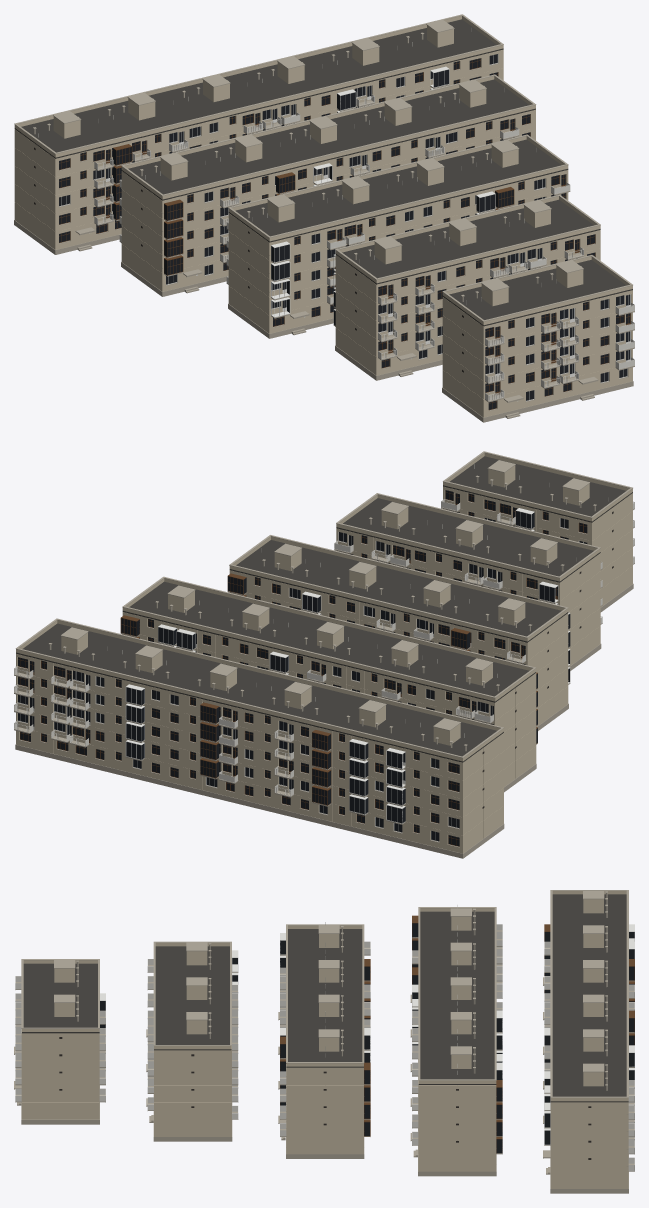
Rendered from panel_block.glb.
The picture shows the model from 3 angles, top to bottom: view 1: azimuth 30°, elevation 25°; view 2: azimuth 150°, elevation 25°; view 3: azimuth 270°, elevation 25°; orthographic projection. The views are drawn at different scales.
Visible parts, largest first — view 1: block_6, block_5, block_4, block_2, block_3; view 2: block_6, block_5, block_4, block_3, block_2; view 3: block_6, block_5, block_4, block_3, block_2.
Boxes of the visible parts, <box> form: block_6: <box>14,14,503,254</box>; block_5: <box>119,74,536,296</box>; block_4: <box>226,134,570,338</box>; block_2: <box>442,255,634,422</box>; block_3: <box>333,194,600,380</box>; block_6: <box>14,618,504,858</box>; block_5: <box>120,576,537,792</box>; block_4: <box>227,535,570,730</box>; block_3: <box>334,493,602,670</box>; block_2: <box>441,451,634,612</box>; block_6: <box>543,890,634,1193</box>; block_5: <box>410,905,502,1176</box>; block_4: <box>278,922,370,1158</box>; block_3: <box>146,941,238,1141</box>; block_2: <box>14,959,105,1124</box>.
Size of the model in its own units: 72.12 by 17.33 by 91.1.
